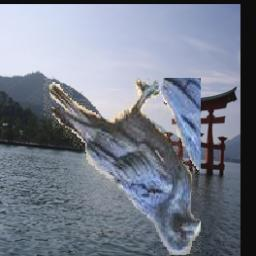Crow: (44, 79, 201, 256)
